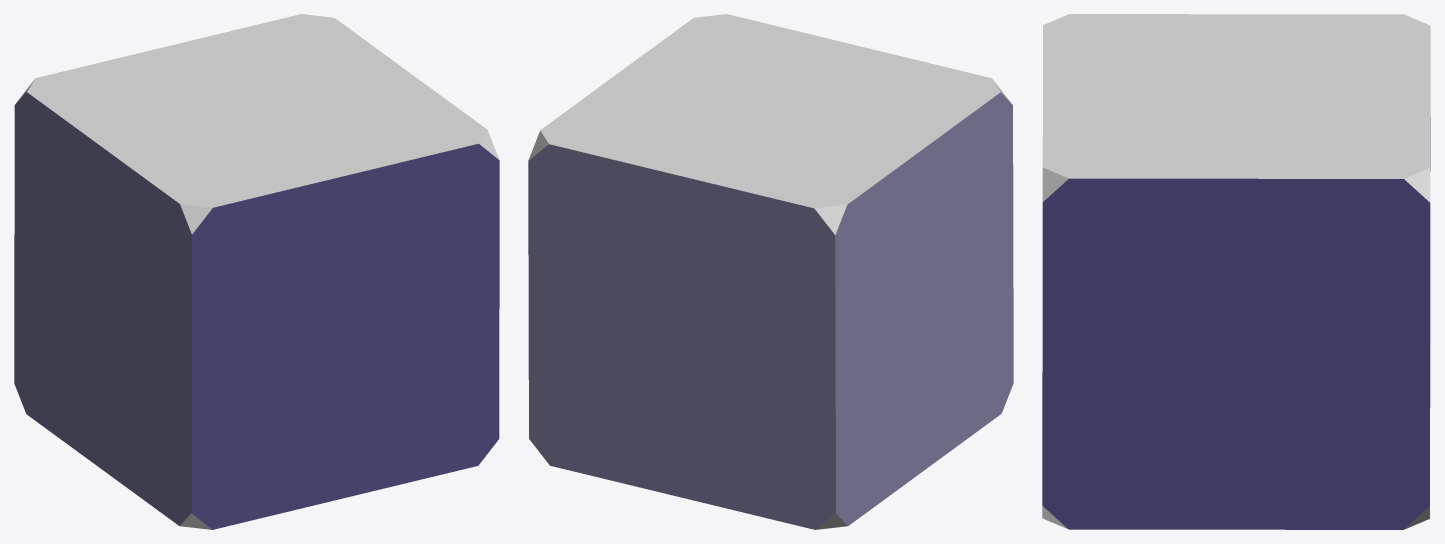
Rendered from RefCube.glb.
3 views of the same model, side by side, from view 1: azimuth 30°, elevation 25°; view 2: azimuth 150°, elevation 25°; view 3: azimuth 270°, elevation 25° (orthographic). The views are drawn at different scales.
Visible parts, largest first — view 1: Cube.002; view 2: Cube.002; view 3: Cube.002.
Boxes of the visible parts, x1=… form: Cube.002: x1=14, y1=14, x2=499, y2=529; Cube.002: x1=528, y1=14, x2=1013, y2=529; Cube.002: x1=1042, y1=14, x2=1430, y2=529.
Size of the model in its own units: 1.4 by 1.4 by 1.4.
